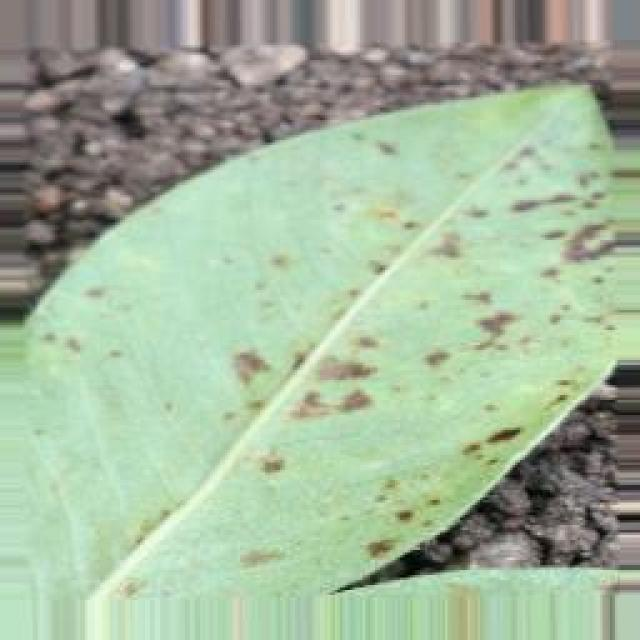Whitefly: (44, 19, 605, 552)
